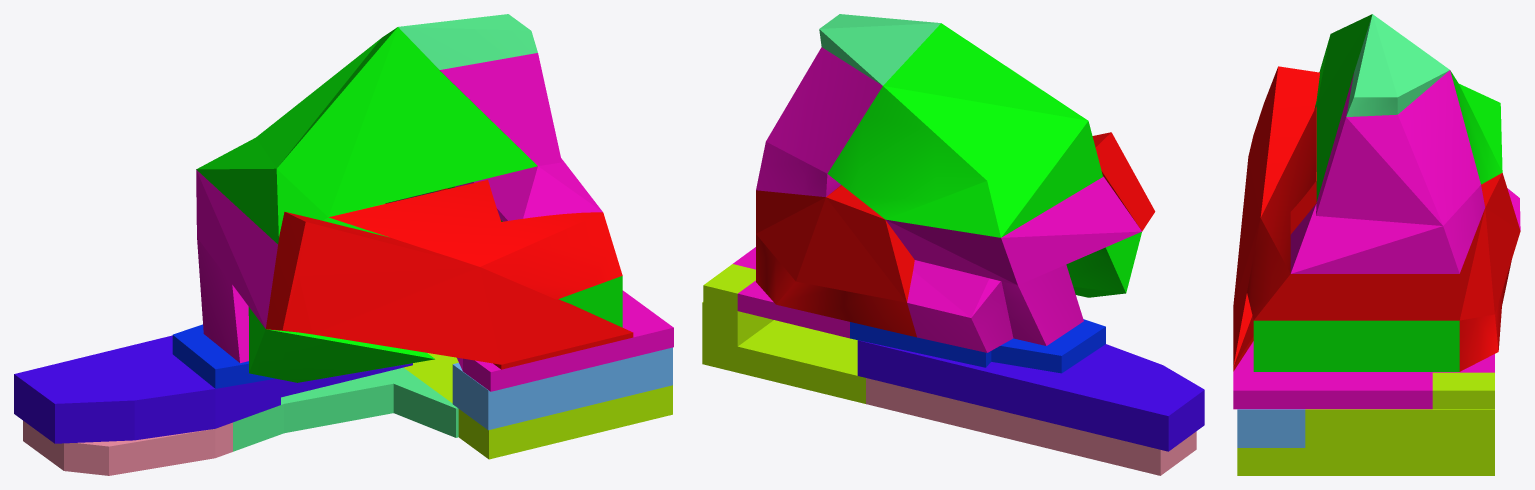
Rendered from program.glb.
3 views of the same model, side by side, from view 1: azimuth 30°, elevation 25°; view 2: azimuth 150°, elevation 25°; view 3: azimuth 270°, elevation 25° (orthographic). The views are drawn at different scales.
Parts seen in each view (by area): view 1: Circulation, Exhibitions, Lecture Hall, Cafe, Machine, Shop, Parking, Storage, Offices/Admin; view 2: Exhibitions, Lecture Hall, Circulation, Cafe, Parking, Storage, Offices/Admin, Machine; view 3: Lecture Hall, Circulation, Exhibitions, Parking, Machine, Shop.
Boxes of the visible parts, <box> form: Circulation: <box>266,180,633,369</box>; Exhibitions: <box>196,27,622,382</box>; Lecture Hall: <box>196,53,673,391</box>; Cafe: <box>14,335,412,443</box>; Machine: <box>233,14,537,451</box>; Shop: <box>452,347,672,430</box>; Parking: <box>404,353,672,459</box>; Storage: <box>23,421,232,475</box>; Offices/Admin: <box>172,324,274,388</box>; Exhibitions: <box>827,23,1141,297</box>; Lecture Hall: <box>733,47,1141,352</box>; Circulation: <box>756,132,1155,337</box>; Cafe: <box>857,340,1204,451</box>; Parking: <box>702,264,865,403</box>; Storage: <box>866,378,1196,475</box>; Offices/Admin: <box>850,319,1105,373</box>; Machine: <box>819,14,940,85</box>; Lecture Hall: <box>1233,70,1520,409</box>; Circulation: <box>1233,66,1520,371</box>; Exhibitions: <box>1253,14,1502,371</box>; Parking: <box>1237,372,1494,475</box>; Machine: <box>1346,14,1449,116</box>; Shop: <box>1237,409,1305,447</box>.
Size of the model in its own units: 37.31 by 26.25 by 18.62.
